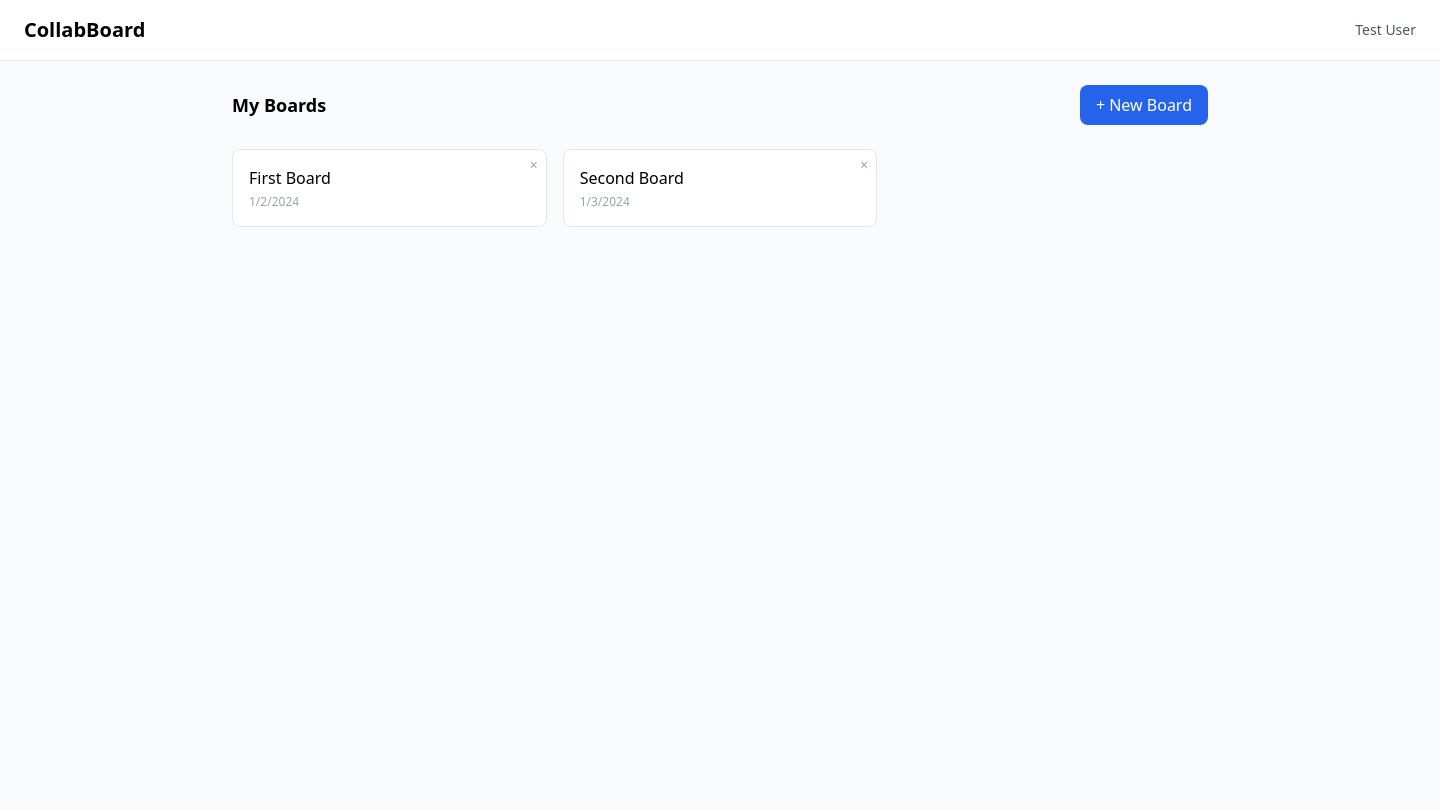
Scenario: DashboardPage — delete board › removes the board from the list after successful deletion
The image size is (1440, 810).
Check: the heading "First Board" is shown, box left=249, top=167, right=331, bottom=189
Click the button named "delete board". click: x=534, y=165
box: left=530, top=158, right=538, bottom=172
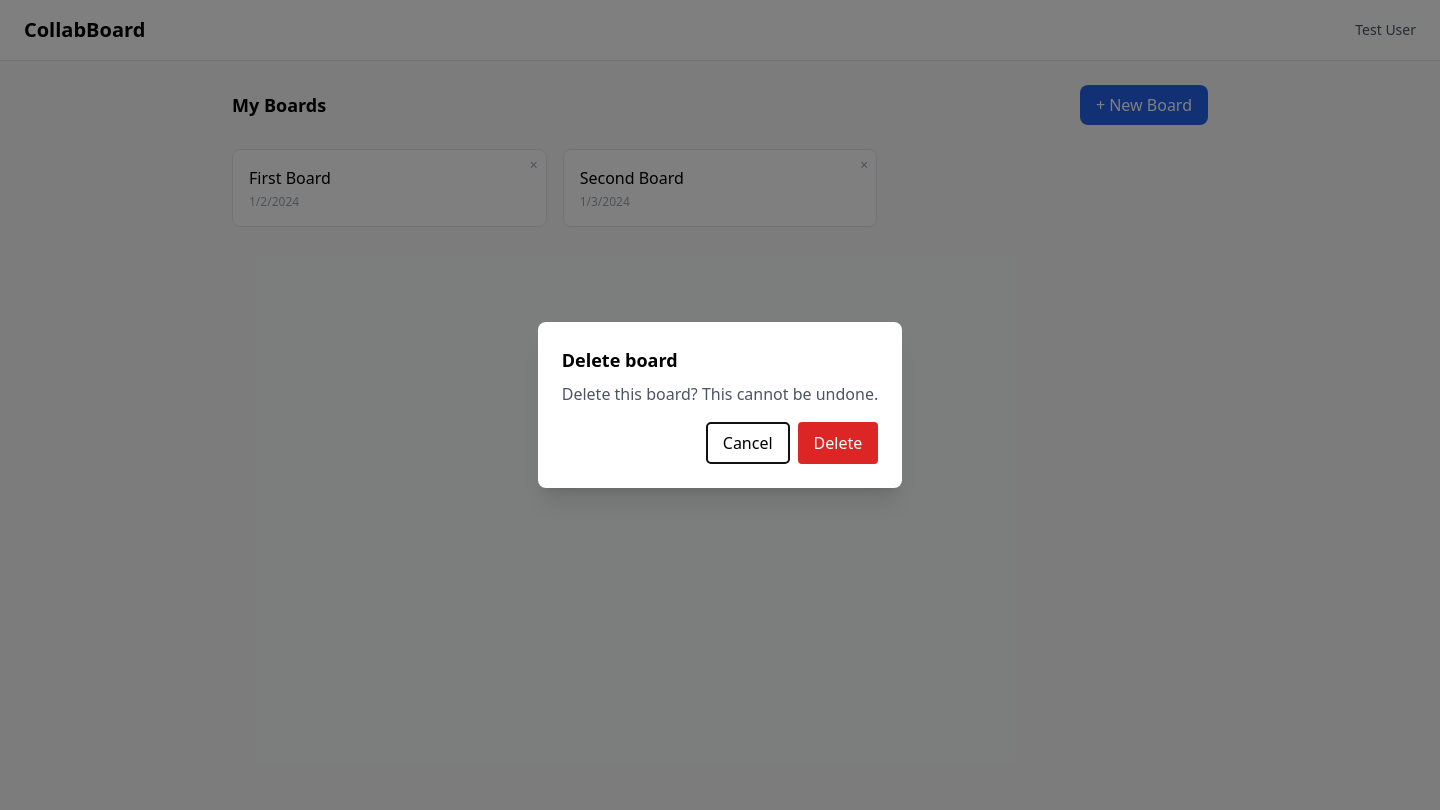
// Confirm via dialog
Click the button "Delete". click: x=838, y=443
box: left=798, top=422, right=878, bottom=464
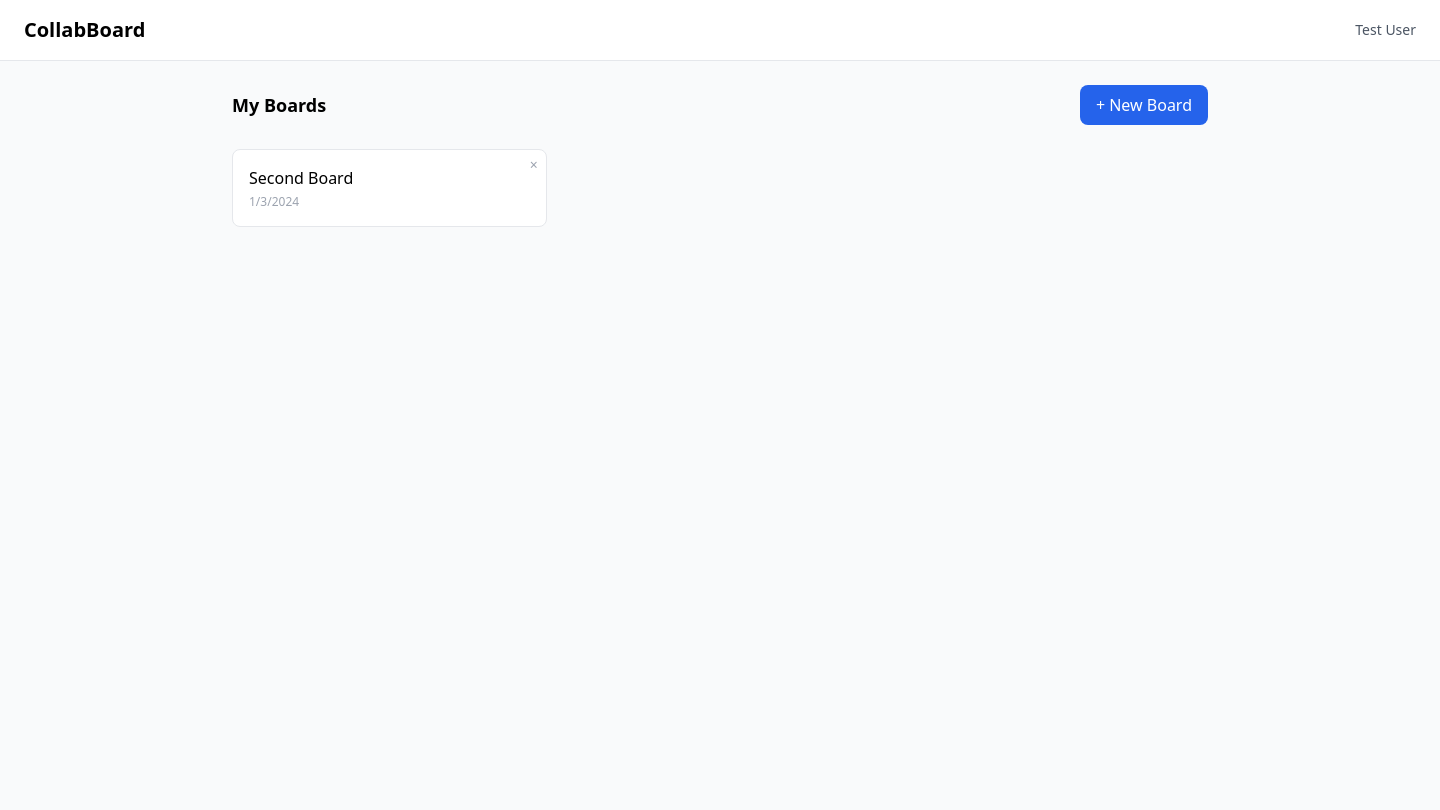
Check: the heading "Second Board" is shown, box left=249, top=167, right=353, bottom=189
Check: the button "First Board" is gone
